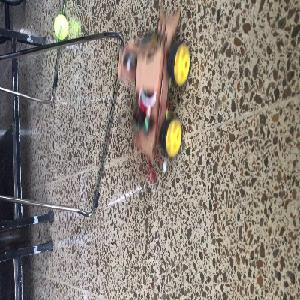Ball: (54, 14, 67, 40)
Robot: (119, 10, 191, 161)
